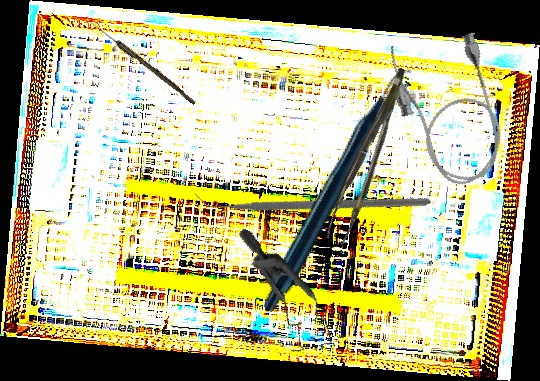Cannula: (381, 22, 516, 196)
Chopper: (194, 87, 431, 308)
Handpiece: (198, 67, 479, 314)
Speculum: (203, 227, 361, 366)
Surgical Spoon: (88, 19, 198, 106)
Tissue Forceps: (315, 67, 427, 246)
